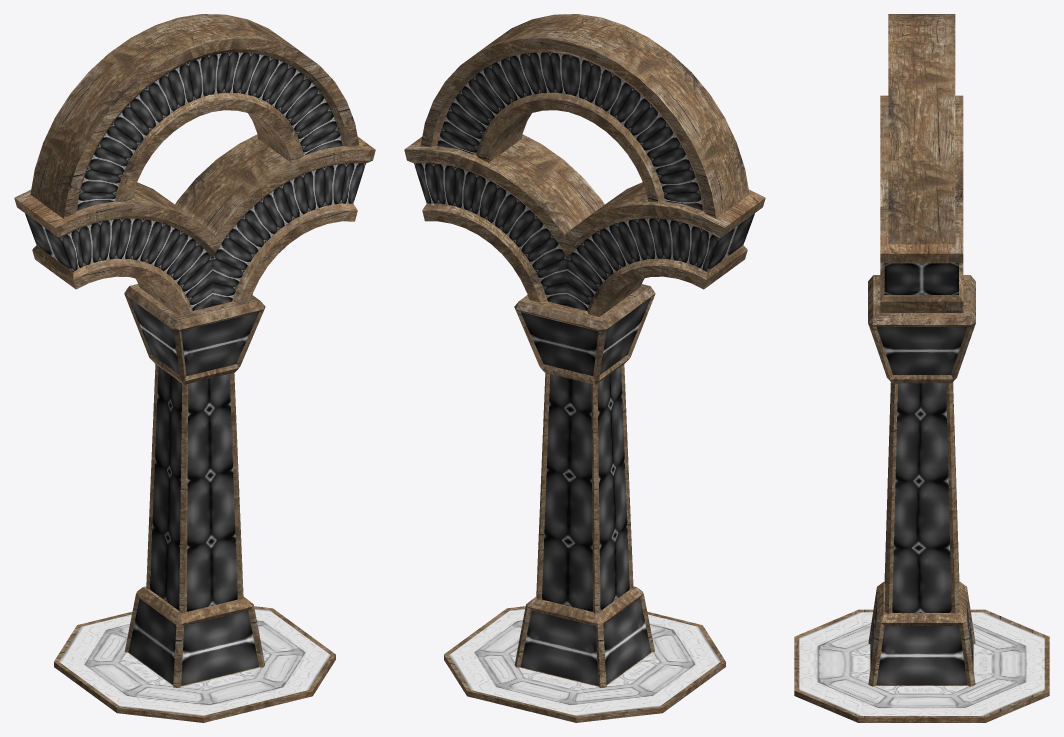
The model's file is column2.FBX.
3 renders of one model, left to right at view 1: azimuth 30°, elevation 25°; view 2: azimuth 150°, elevation 25°; view 3: azimuth 270°, elevation 25°, orthographic.
Visible parts, largest first — view 1: Box024; view 2: Box024; view 3: Box024.
Boxes of the visible parts, x1,y1,x2,y2 form: Box024: (14,14,375,722); Box024: (404,14,765,722); Box024: (794,14,1049,722).
Size of the model in its own units: 154 by 293 by 105.
